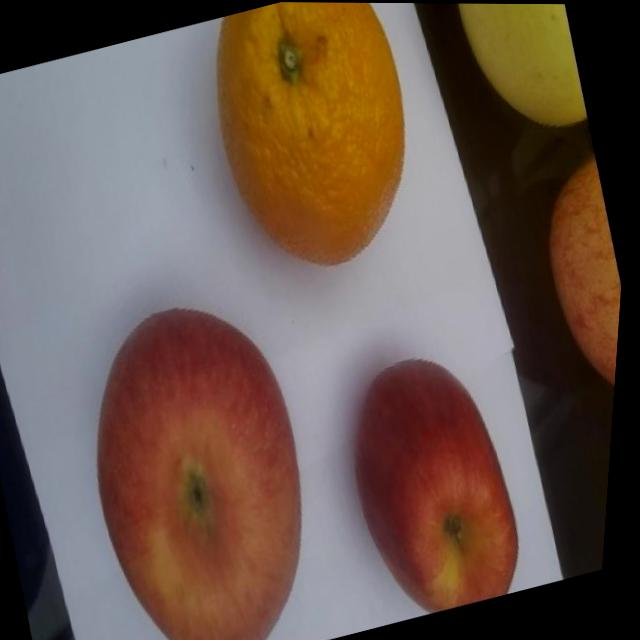Apple: (55, 284, 363, 640), (327, 339, 551, 626), (520, 153, 632, 415)
Orange: (186, 1, 448, 288)
